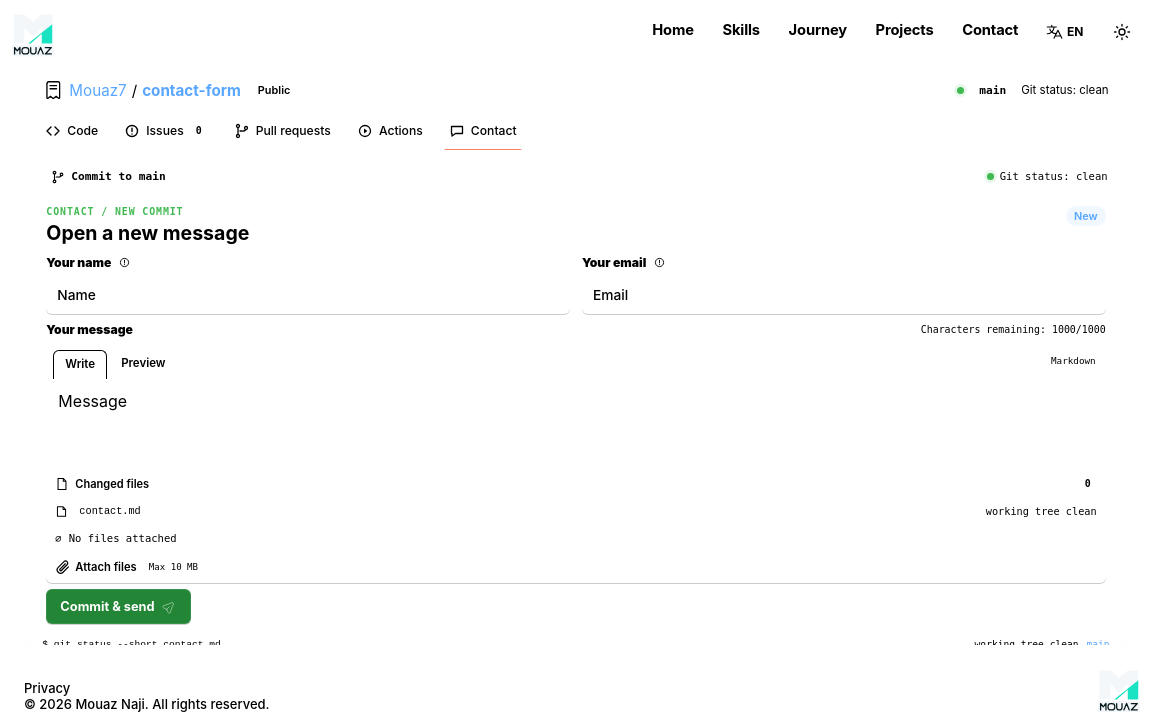
contact send failures and success › explains a prepare failure with code captcha_invalid
Type "Mouaz Test" into the field with id "contact-mobile-name" at (308,295), box [46,277,570,314]
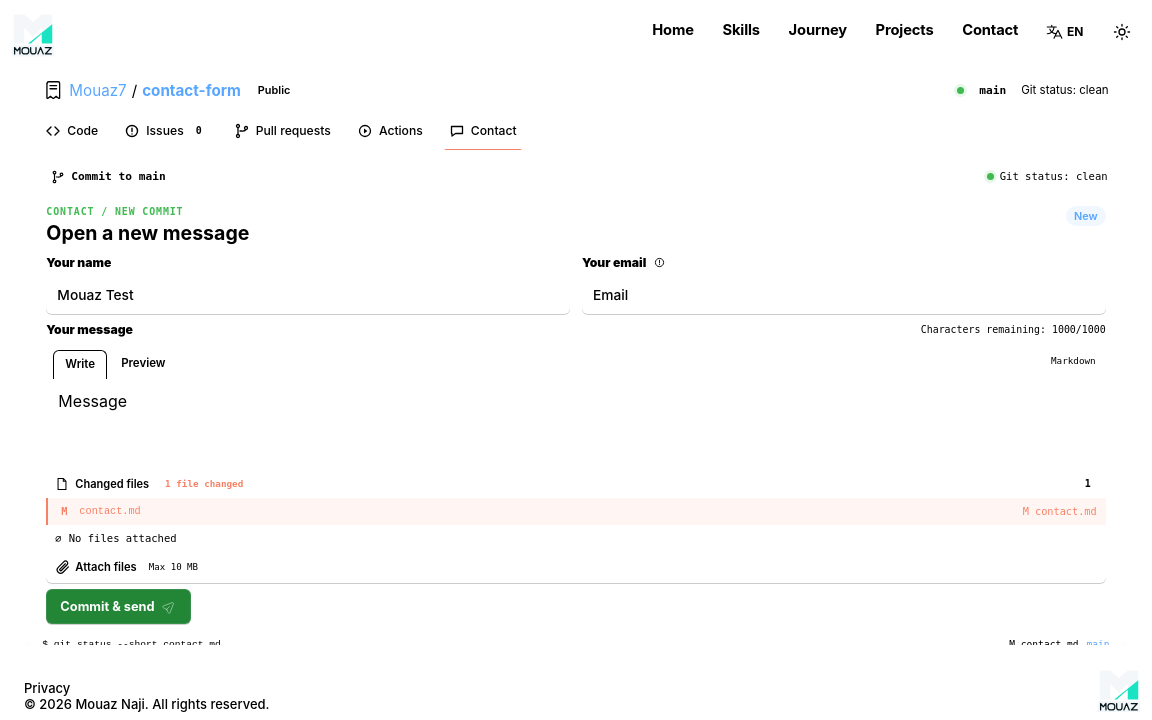
Type "test@example.com" into the field with id "contact-mobile-email" at (844,295), box [582,277,1106,314]
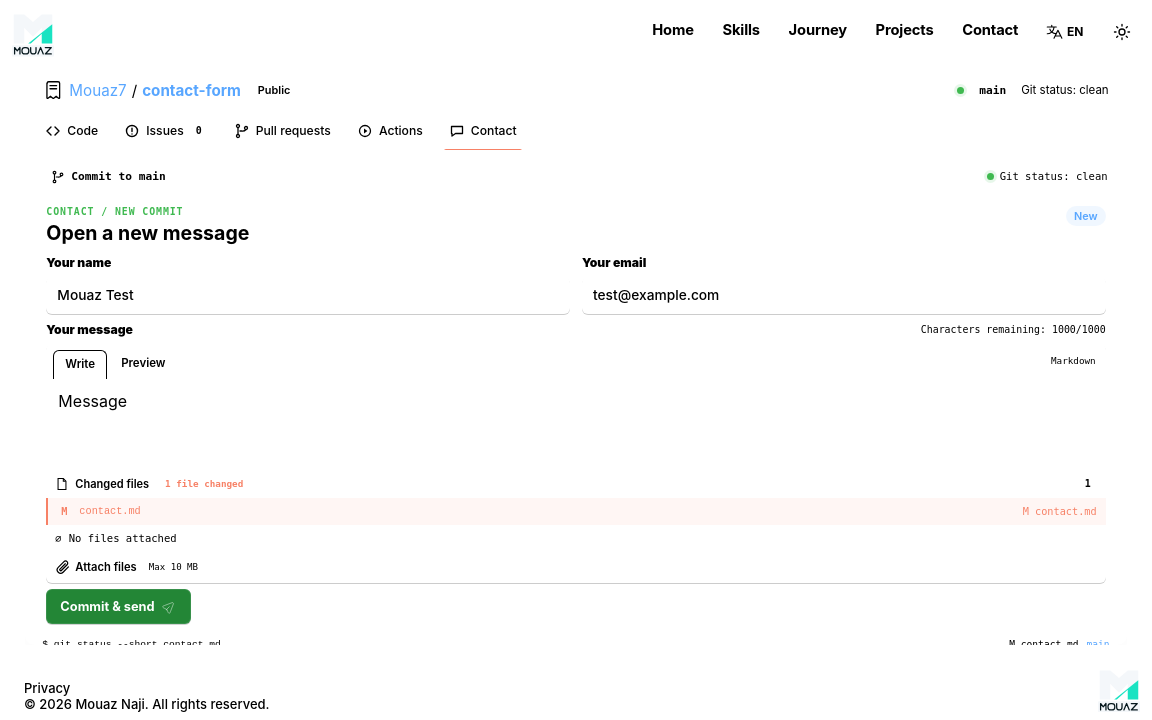
Type "A secure contact test." into the text box with id "contact-mobile-message" at (576,424), box [46,378,1106,470]
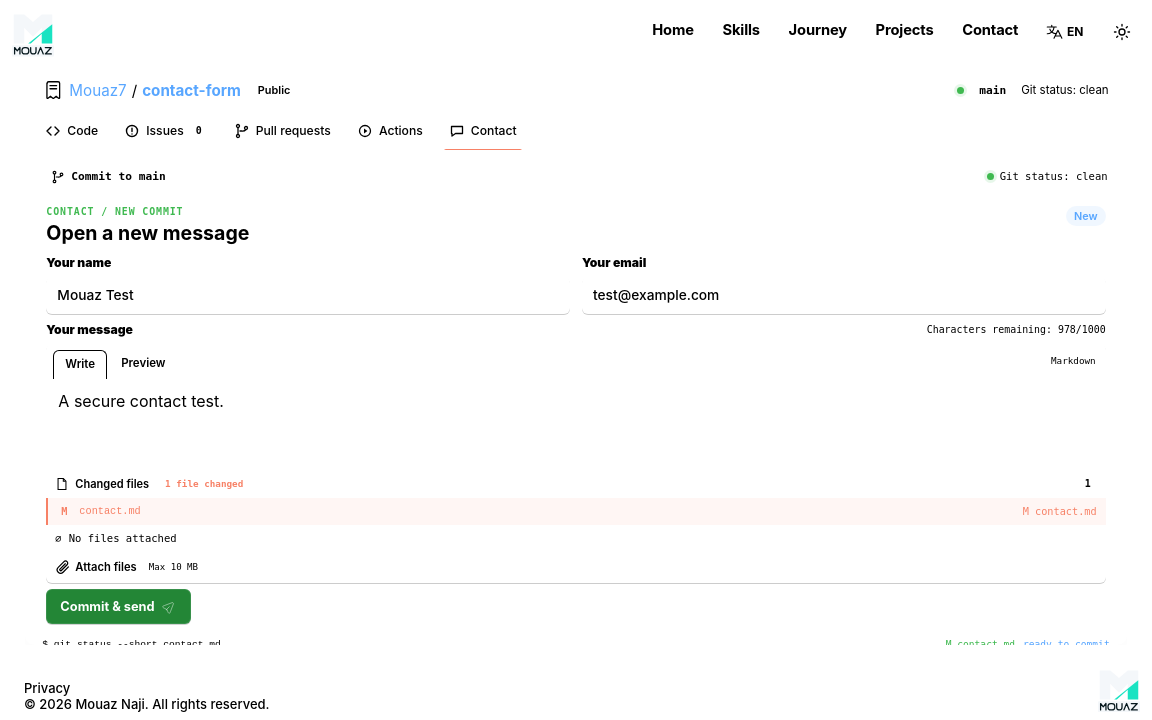
Submit the form named "Contact form"
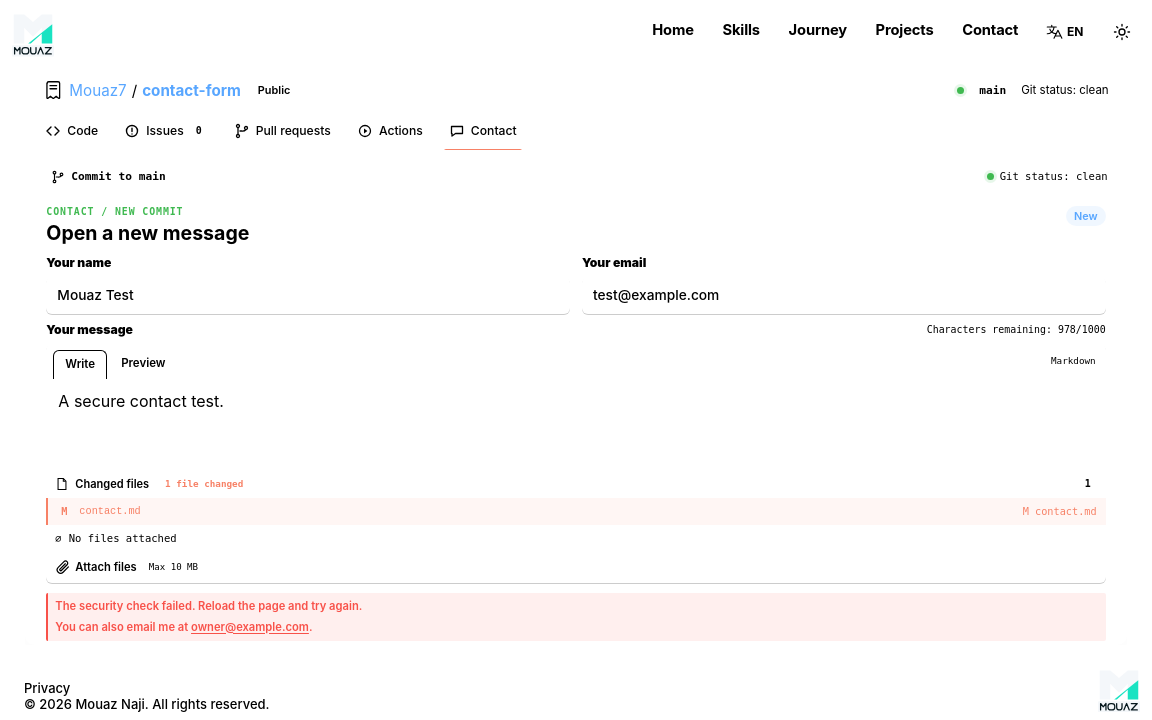
expect the message shows "The security check failed. Reload the page and try again.": met, box [55,599,362,613]
expect the message shows "You can also email me at owner@example.com.": met, box [46,593,1106,641]
